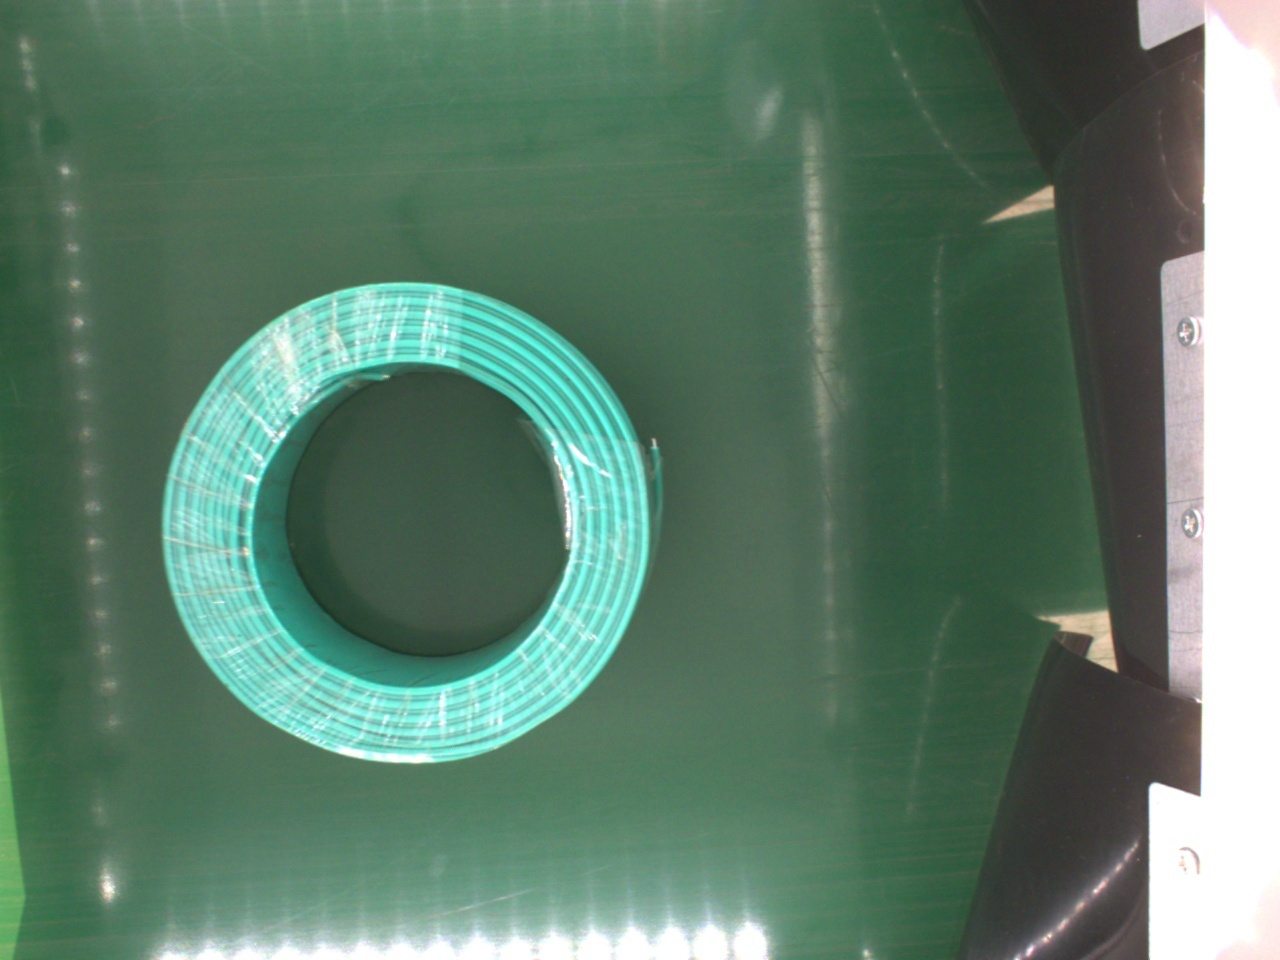green: (158, 280, 663, 773)
